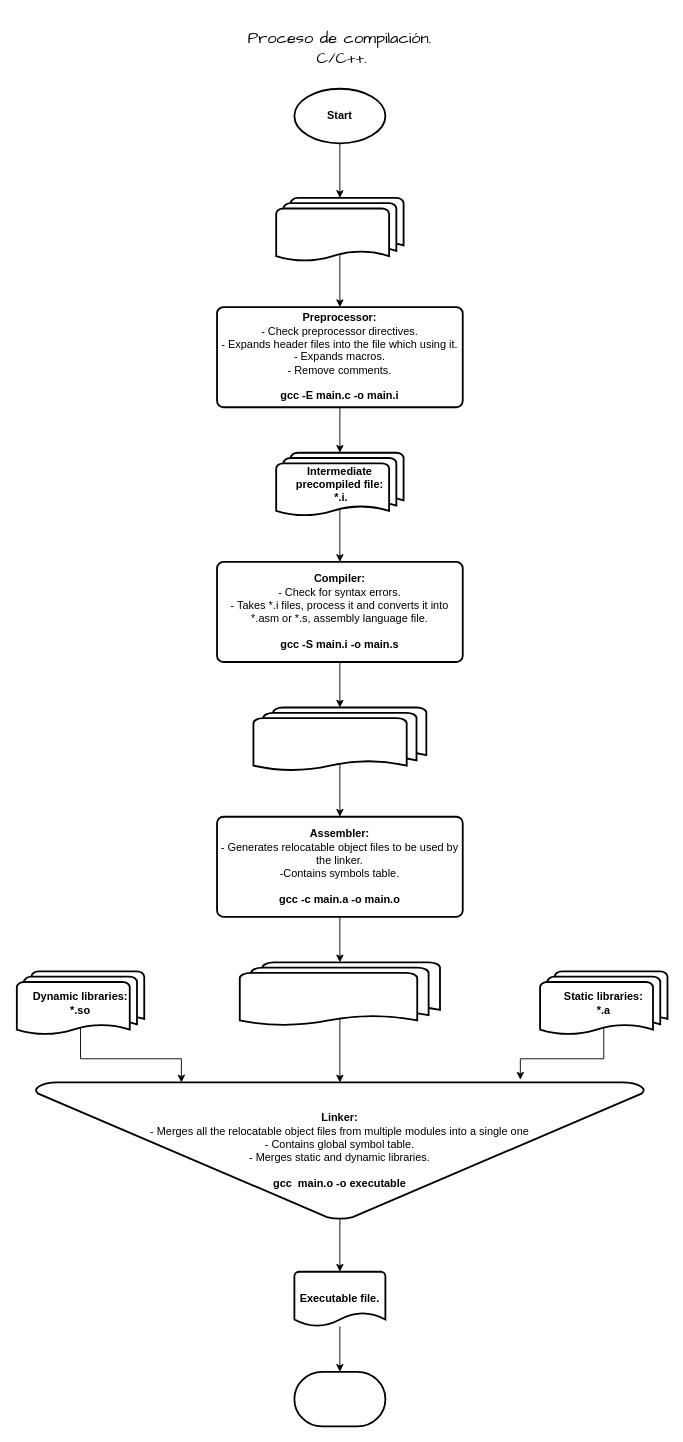
Some shapes in this 683 by 1442 pixel diagram are drawn without their labels. The centre of each missing label's shape, as x and y in pixels:
Assembly language file: *.s / *.asm.: [339,739]
Code sources files: *.c / *.cpp.: [339,229]
End: [339,1398]
Relocatable object files: *.o: [339,993]
